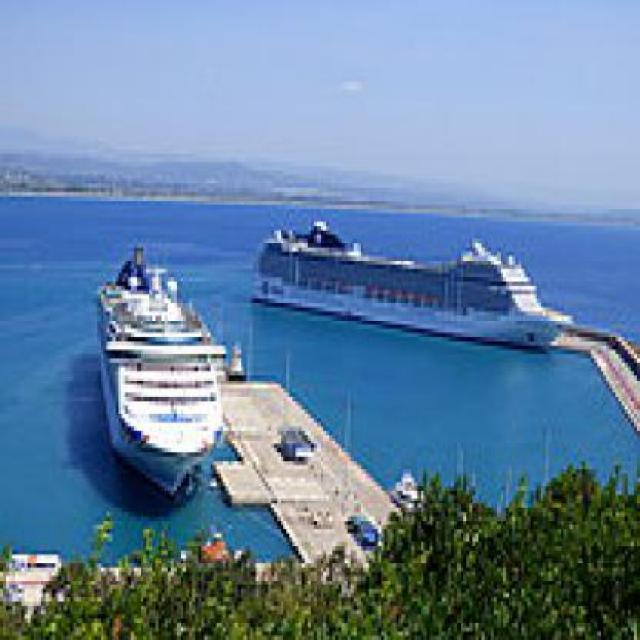cruise: (245, 206, 592, 372), (86, 236, 245, 527)
